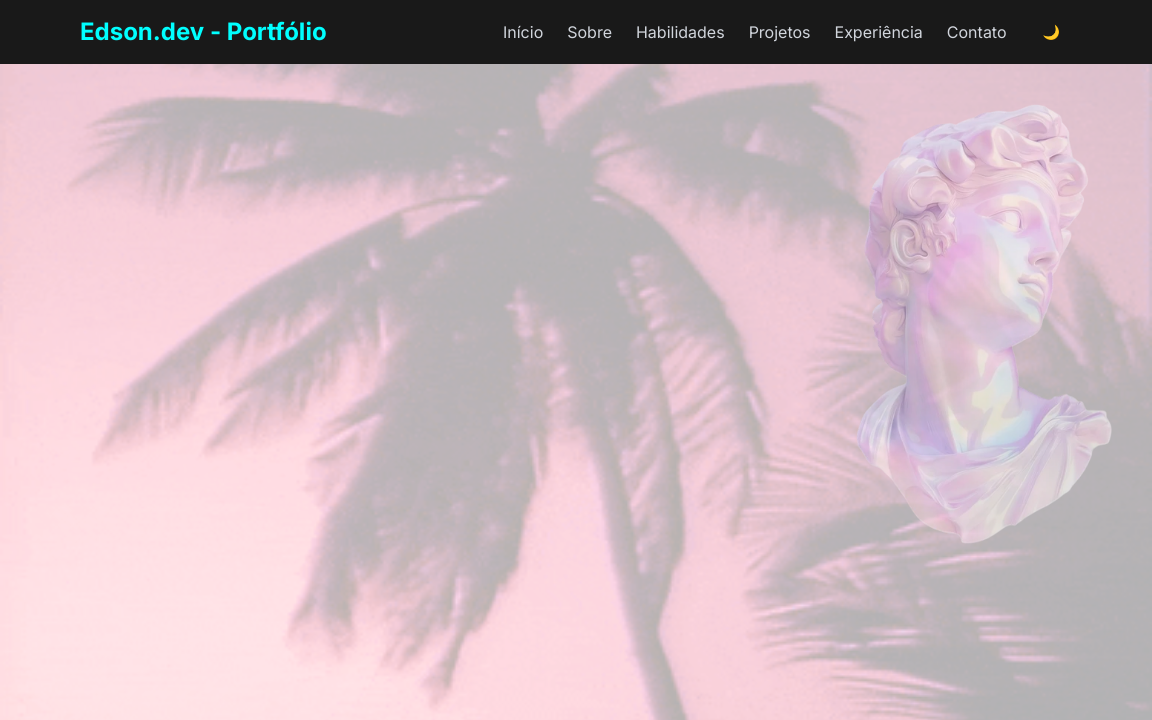
Test case: Theme Toggle Integration › toggles theme from light to dark
Click the button named "Mudar para tema escuro" at (1051, 32), box [1030, 16, 1072, 48]
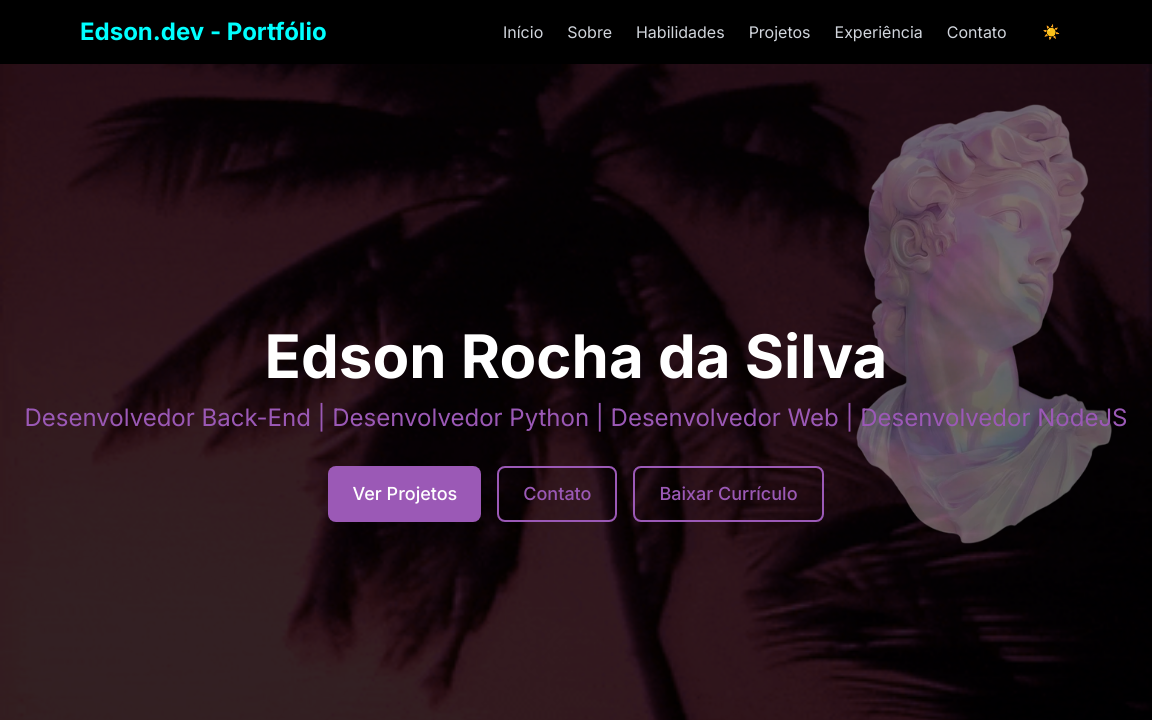
Result: the button named "Mudar para tema claro" is shown at [1030, 16, 1072, 48]
